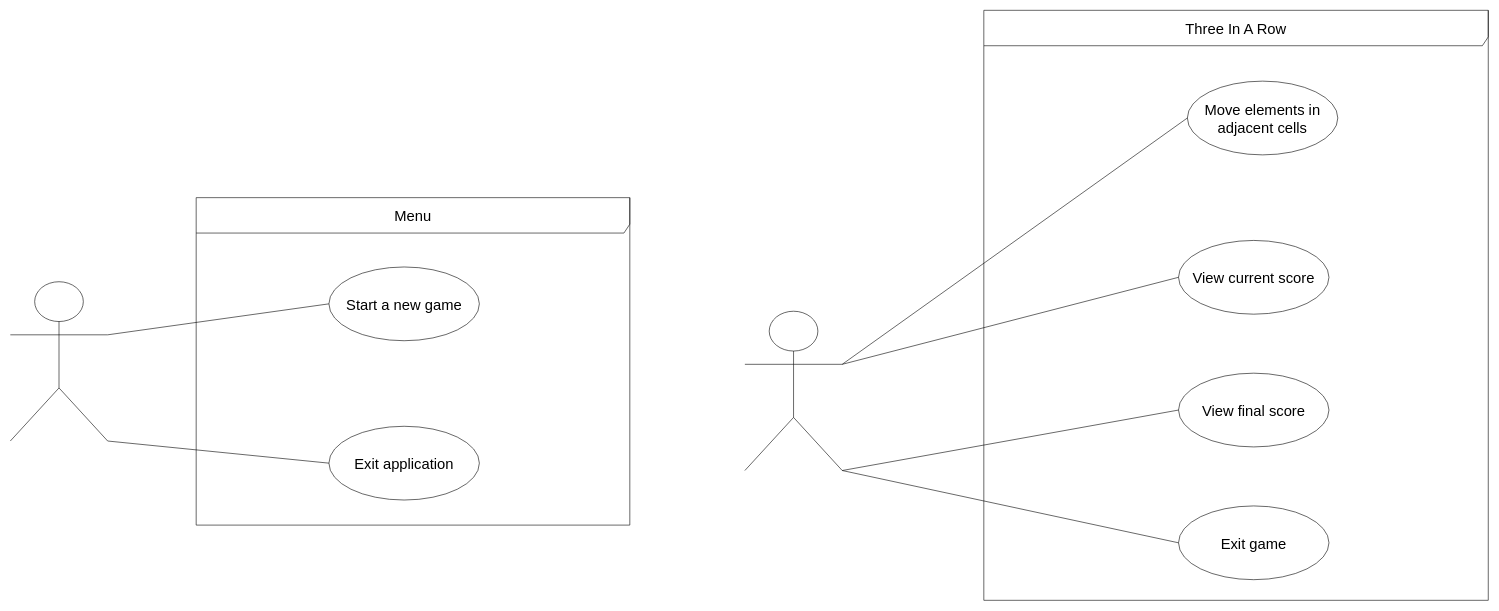
Some shapes in this 1499 by 611 pixel diagram are drawn without their labels. The shapes that lost their labels are listed below. From the top down, each one's centre as x and y in pixels, then its label:
At (x=59, y=361): "User".
At (x=793, y=391): "Player".
